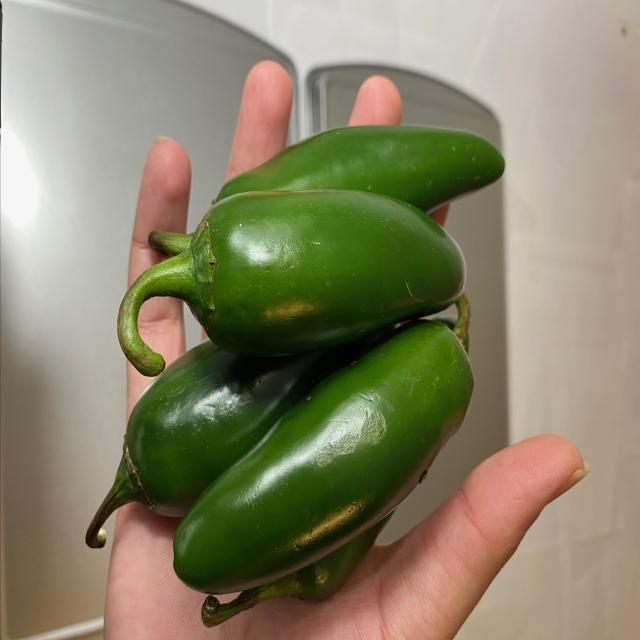chilli: (74, 127, 512, 628)
